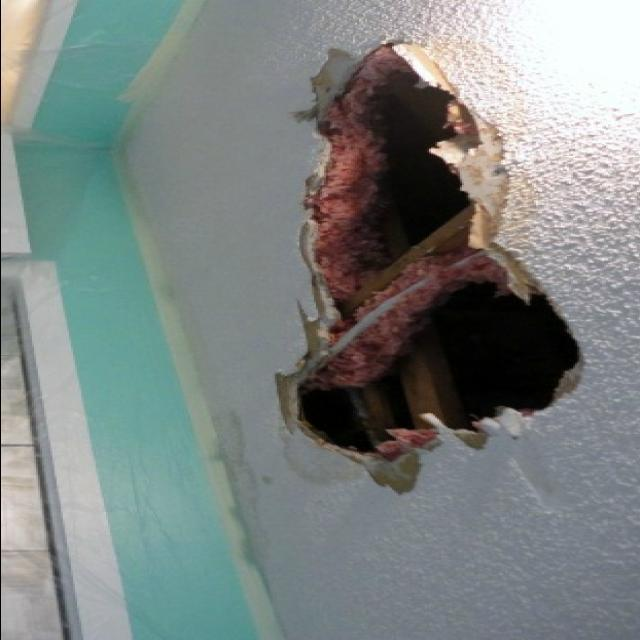Crack: (275, 278, 578, 462), (304, 47, 476, 282)
